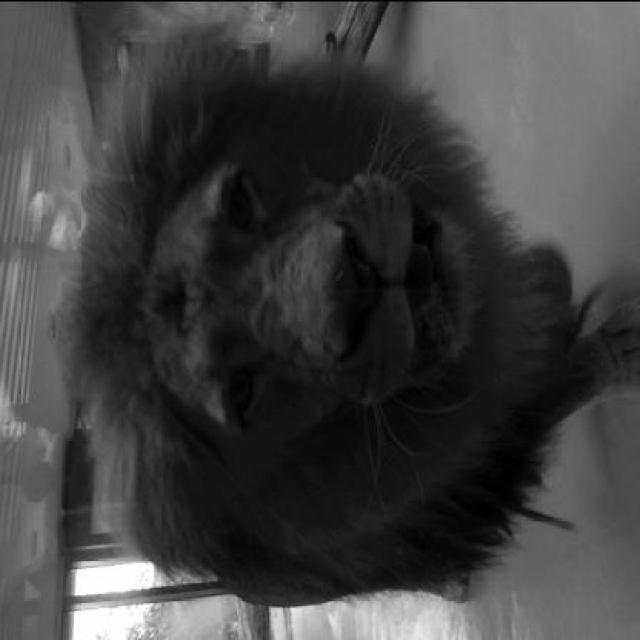Lion: (64, 18, 578, 597)
